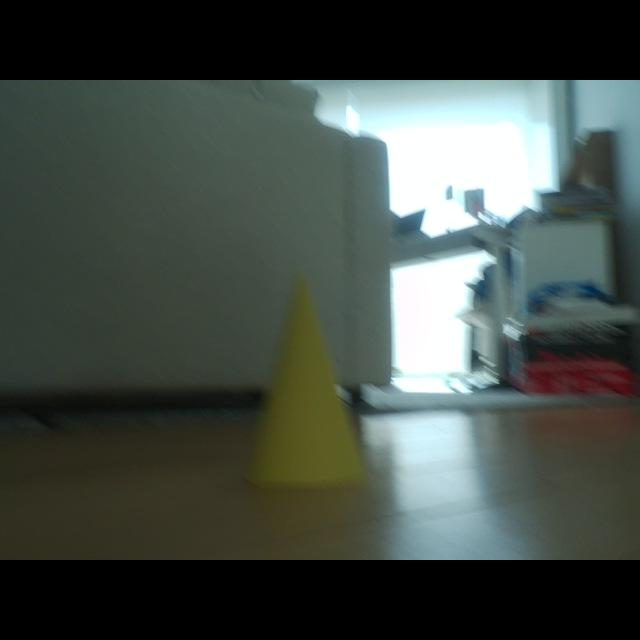bolya: (247, 277, 363, 487)
